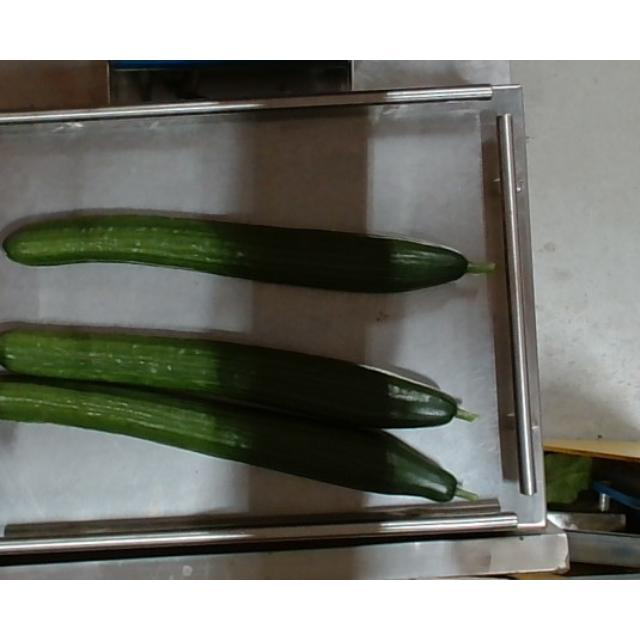cucumber: (0, 364, 508, 508), (0, 194, 500, 300), (0, 321, 468, 427)
